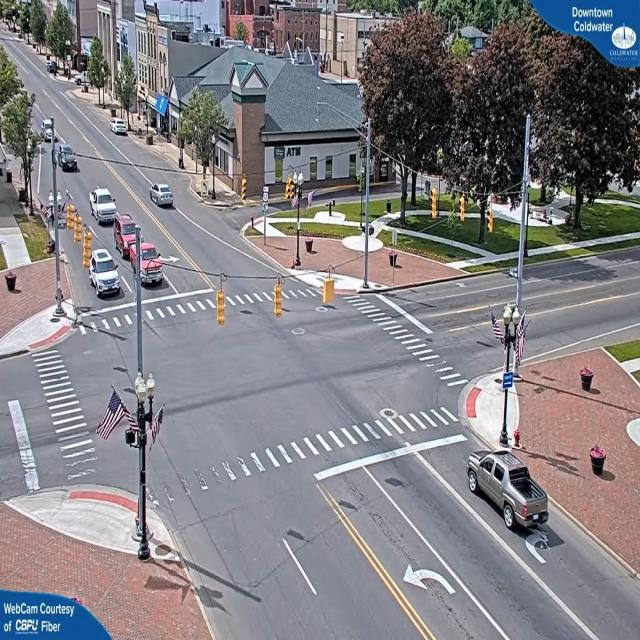car: (467, 451, 552, 536), (88, 252, 122, 296), (113, 209, 137, 258), (89, 188, 119, 225), (150, 184, 173, 208), (112, 120, 128, 136)
